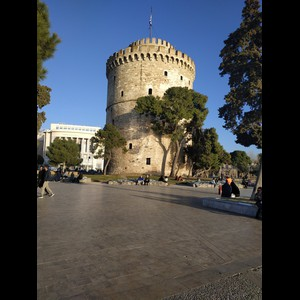White Tower: (98, 7, 204, 177)
